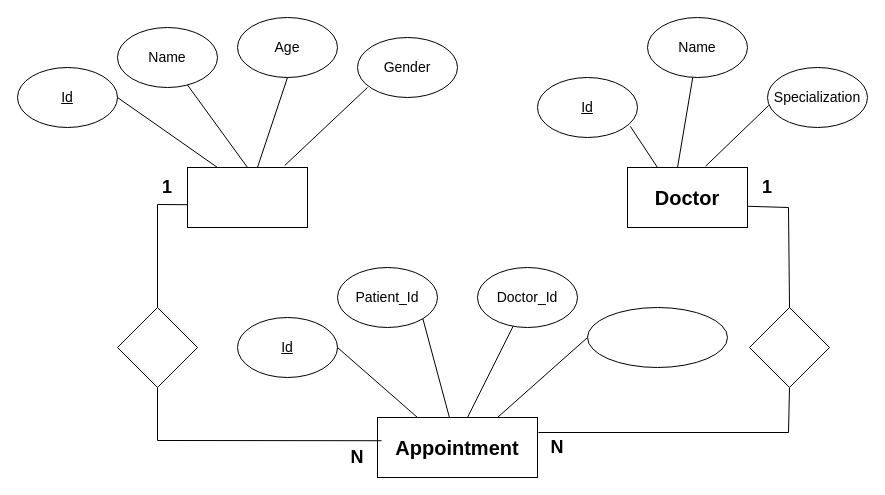
Some shapes in this 885 by 495 pixel diagram are drawn without their labels. Here are the shapes that lost their labels. From the top down, the centre of each, then its label:
point (247, 197): Patient
point (157, 347): Schedule
point (657, 337): Appointment_Date
point (789, 347): Has To Attend
